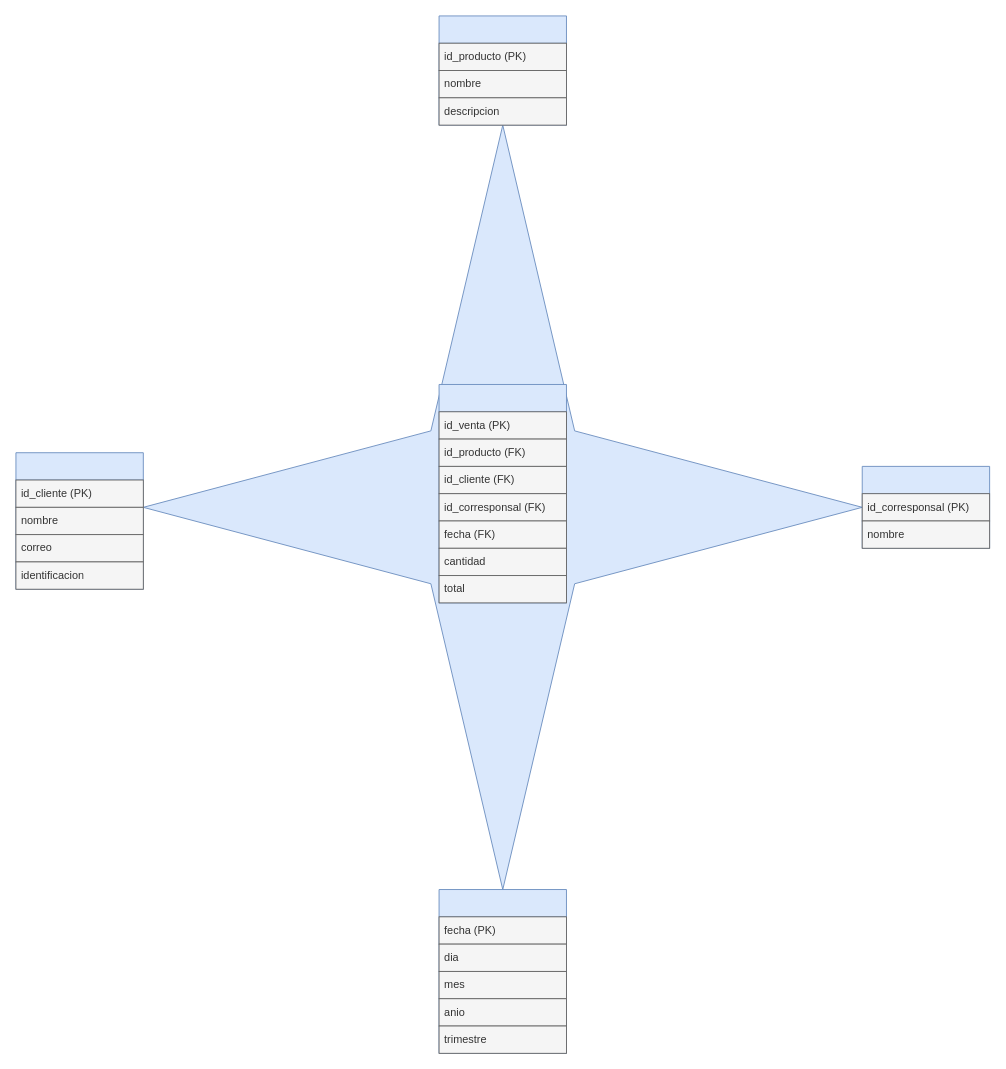
The diagram is 1006 pixels wide and 1069 high, and some of its shapes have lost their labels. The shapes that lost their labels are listed below. From the top down, each one's box as (x1, y1, x2, y2) in pixels, then its label:
(438, 15, 566, 125): dim_producto
(438, 384, 566, 603): hechos_ventas
(861, 465, 990, 548): dim_corresponsal
(15, 452, 143, 589): dim_cliente
(438, 889, 566, 1053): dim_tiempo
